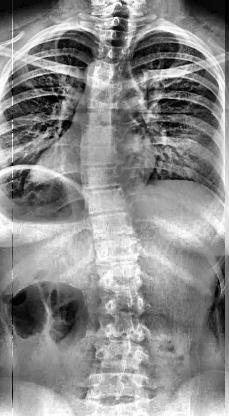Vertebrae: (86, 368, 154, 402), (92, 338, 152, 370), (94, 312, 152, 344), (94, 260, 146, 292), (93, 232, 141, 266), (88, 212, 136, 244), (97, 288, 148, 318), (82, 186, 130, 216), (78, 101, 122, 130), (79, 164, 123, 192), (82, 80, 126, 106), (78, 122, 120, 148), (78, 142, 120, 168), (87, 59, 126, 85), (97, 41, 131, 63)
